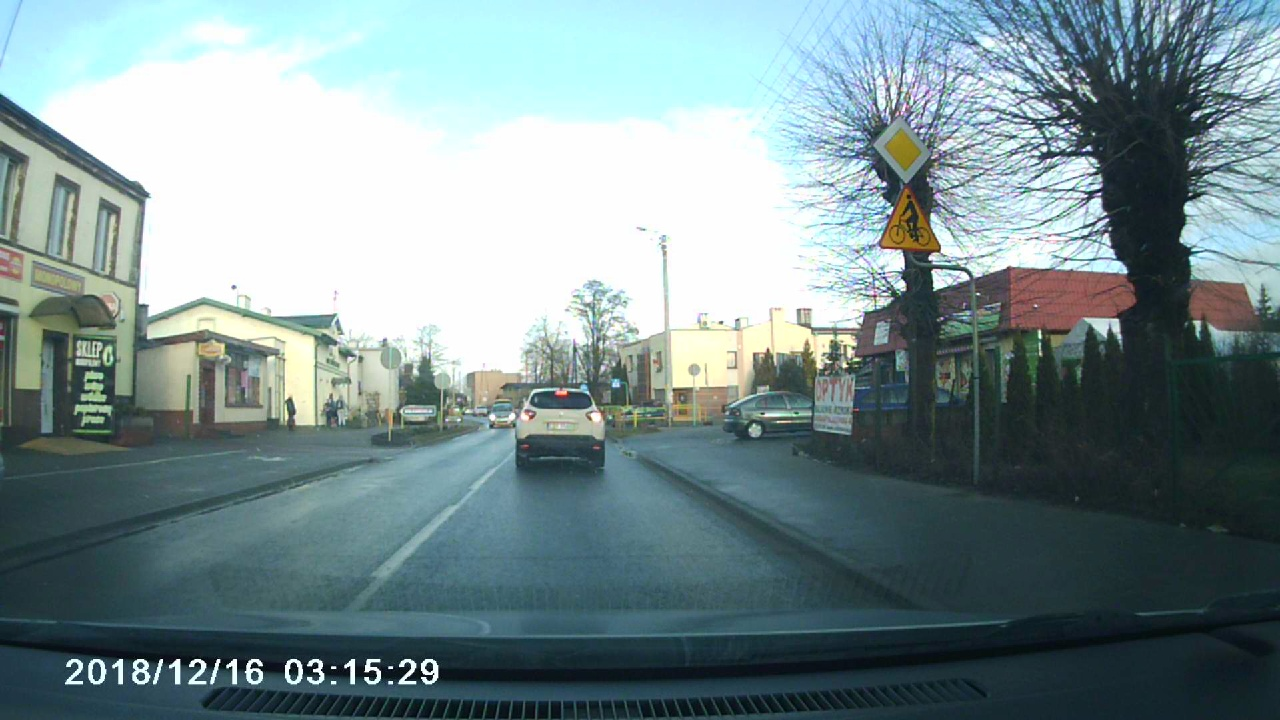D1: (871, 115, 937, 181)
